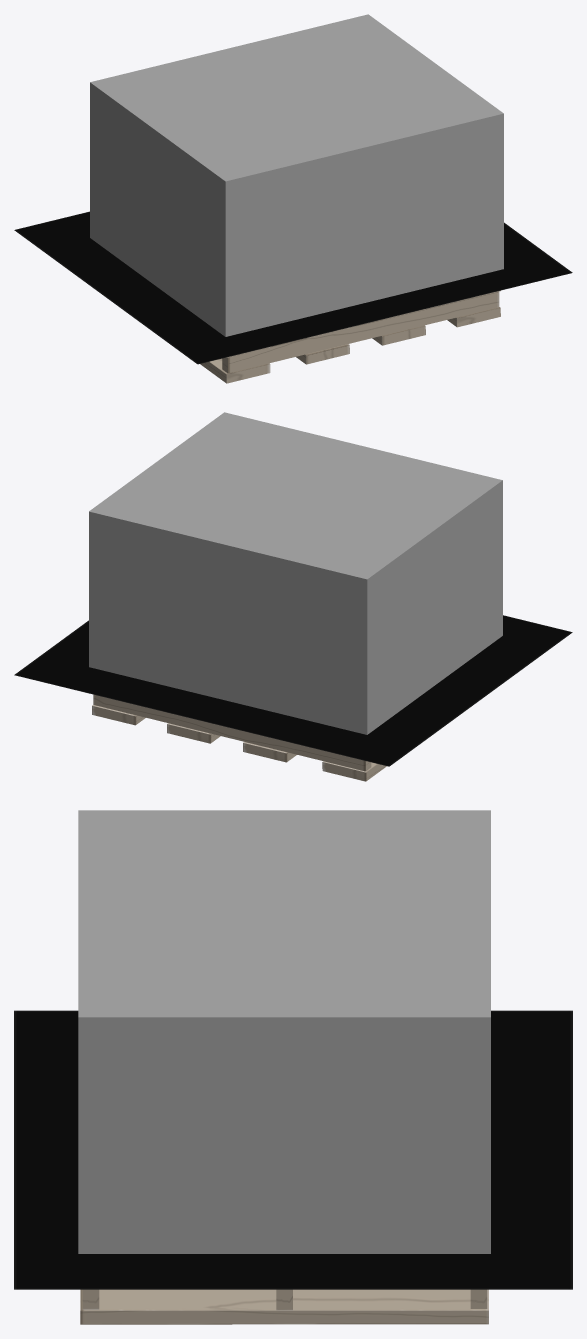
The model's file is paper_stack_pallet.fbx.
3 views of the same model, one above another, from view 1: azimuth 30°, elevation 25°; view 2: azimuth 150°, elevation 25°; view 3: azimuth 270°, elevation 25° (orthographic). The views are drawn at different scales.
Parts seen in each view (by area): view 1: pCube1, CashPalletShadow1, polySurface1; view 2: pCube1, CashPalletShadow1, polySurface1; view 3: pCube1, CashPalletShadow1, polySurface1.
Boxes of the visible parts, <box> form: pCube1: <box>90,14,503,336</box>; CashPalletShadow1: <box>14,211,572,364</box>; polySurface1: <box>200,290,500,383</box>; pCube1: <box>89,412,502,734</box>; CashPalletShadow1: <box>14,615,572,766</box>; polySurface1: <box>92,694,386,781</box>; pCube1: <box>78,810,490,1253</box>; CashPalletShadow1: <box>14,1010,572,1289</box>; polySurface1: <box>80,1289,488,1324</box>.
Bounding box in the file's own units: 21.57 × 11.17 × 18.28.
Materials: 6 (5 with a texture image).
